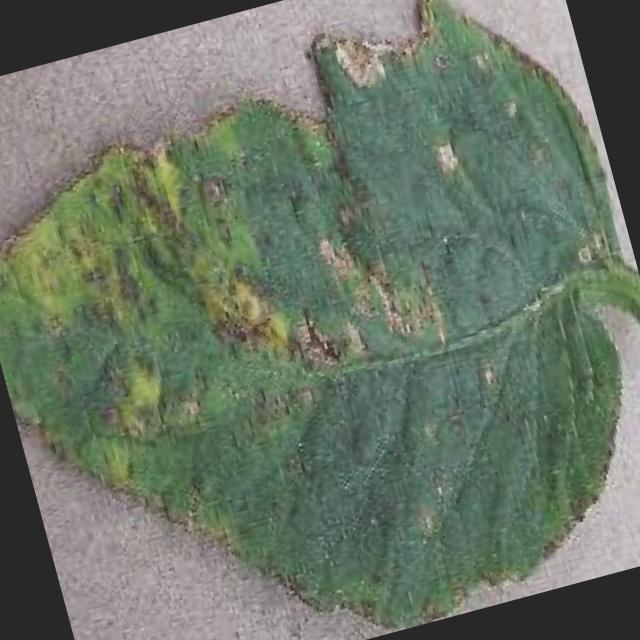bacterial spot: (0, 0, 640, 631)
